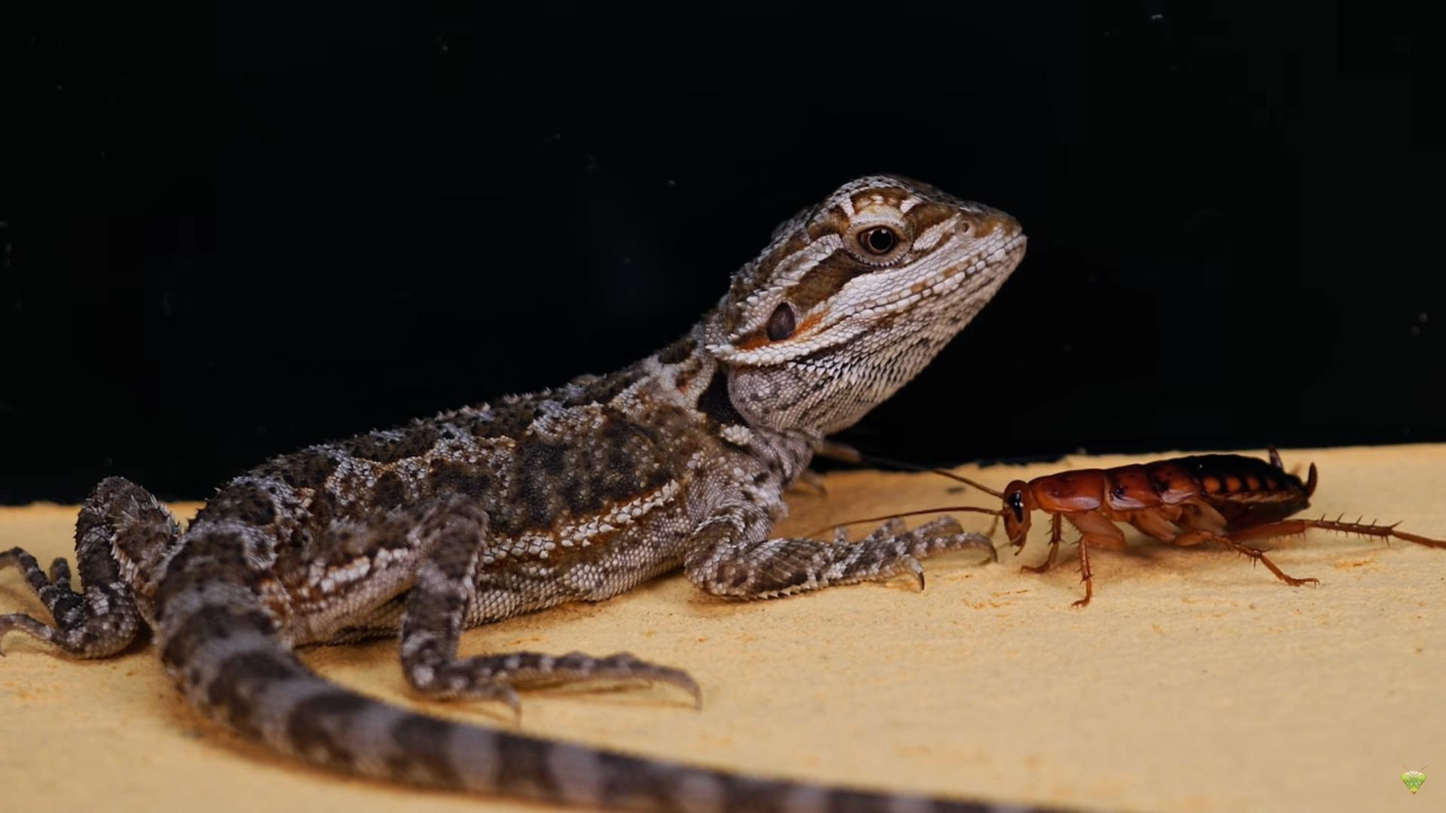cockroach: (988, 433, 1380, 613)
lizard: (14, 167, 1009, 794)
